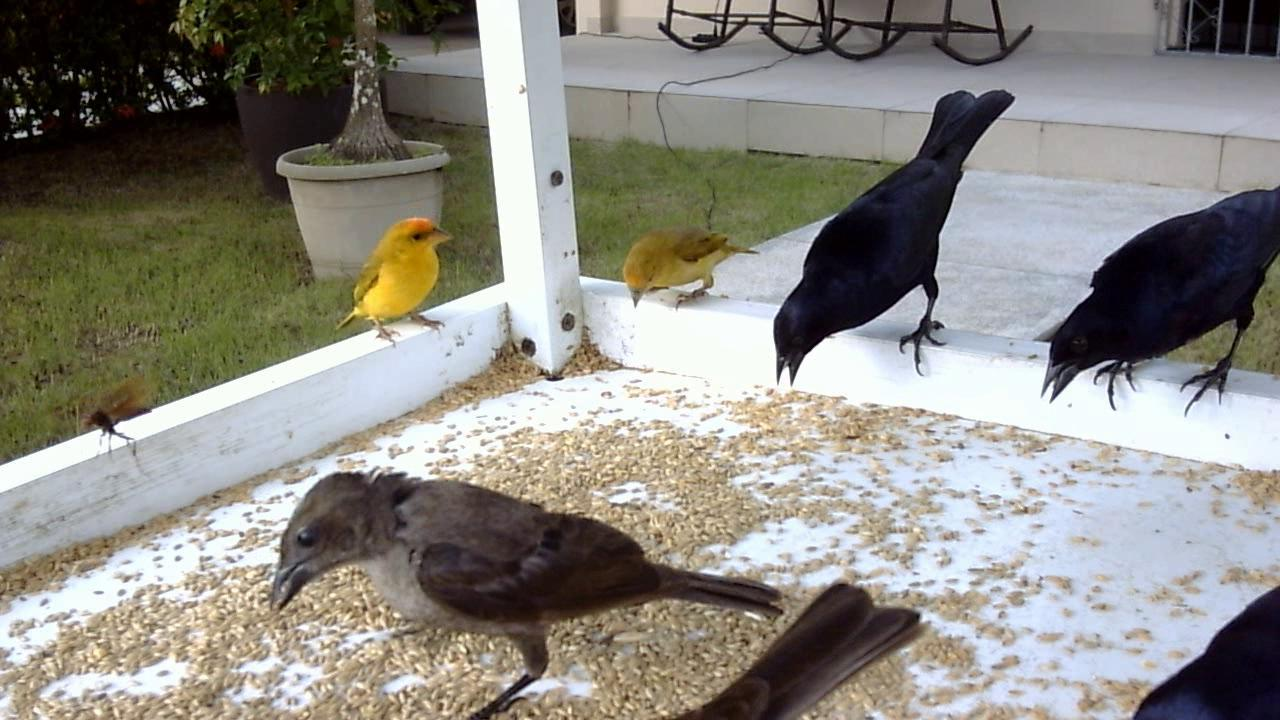canario_do_amazonas: (331, 217, 457, 354), (619, 225, 758, 311)
chupim: (252, 445, 813, 720), (758, 86, 1027, 406), (1034, 179, 1280, 430)
